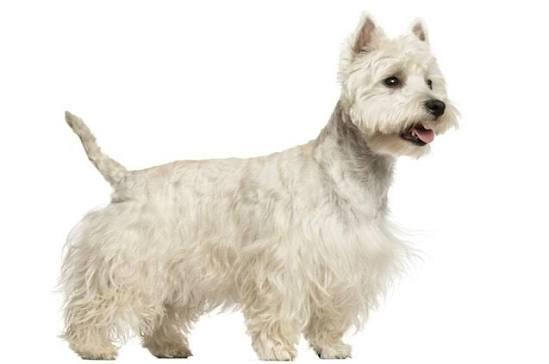adult_dog: (55, 9, 459, 363)
